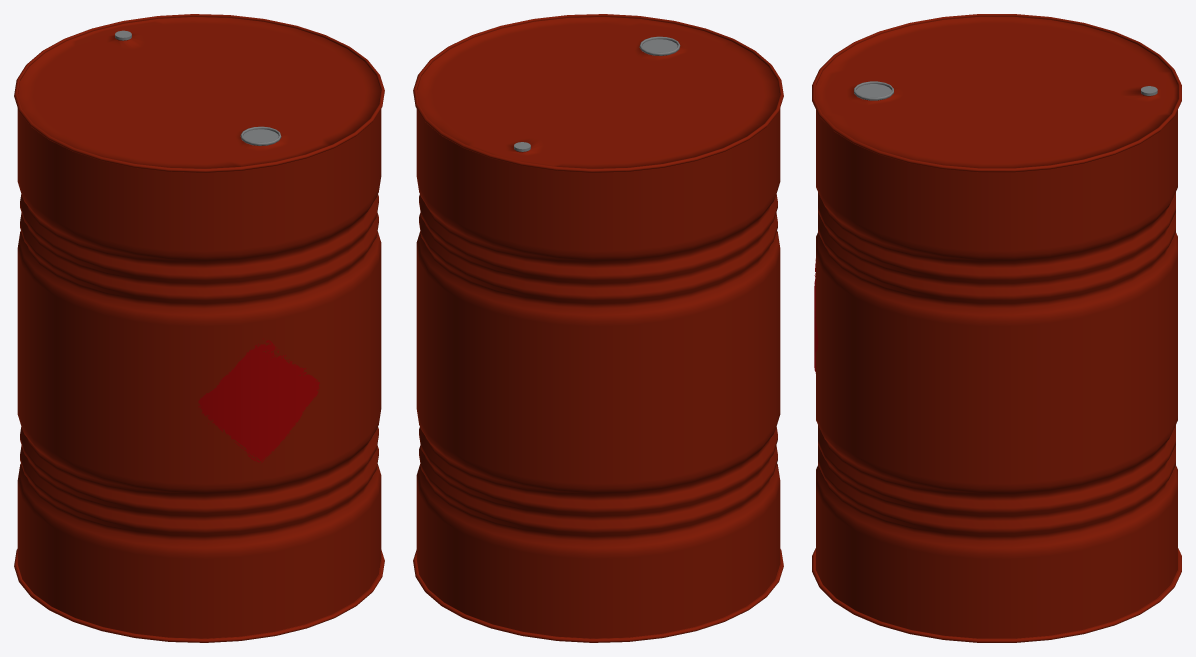
File: Old Rusty Fuel Barrel.fbx
The picture shows the model from 3 angles, left to right: view 1: azimuth 30°, elevation 25°; view 2: azimuth 150°, elevation 25°; view 3: azimuth 270°, elevation 25°; orthographic projection.
Visible parts, largest first — view 1: Cylinder001, Warning_sign; view 2: Cylinder001; view 3: Cylinder001.
Boxes of the visible parts, bbox=[...] form: Cylinder001: bbox=[14, 14, 384, 642]; Warning_sign: bbox=[198, 338, 319, 462]; Cylinder001: bbox=[413, 14, 783, 642]; Cylinder001: bbox=[812, 14, 1181, 642].
Size of the model in its own units: 60.02 by 85.34 by 60.08.
